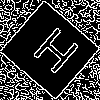H: (24, 25, 82, 84)
